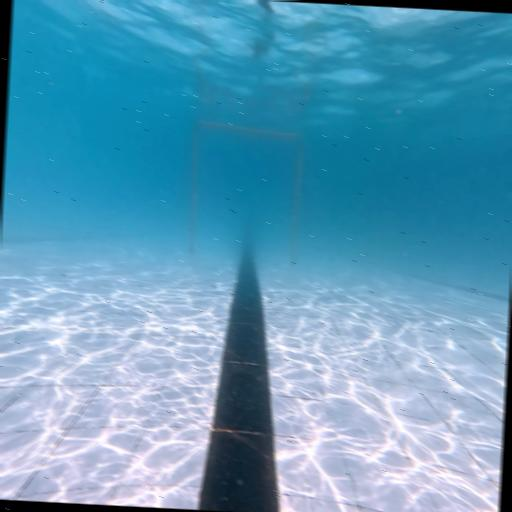gate: (187, 120, 305, 266)
